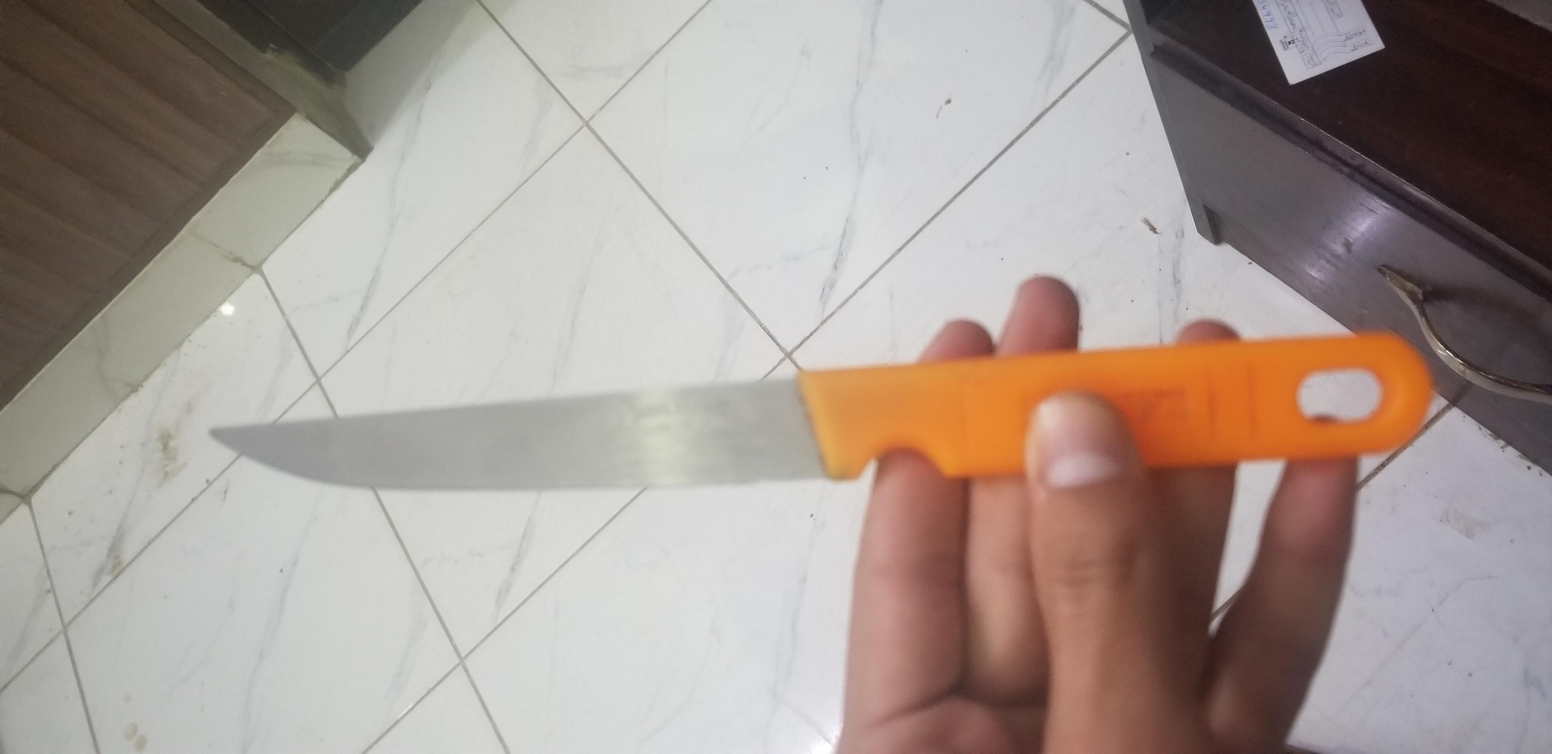knives: (494, 101, 904, 703)
